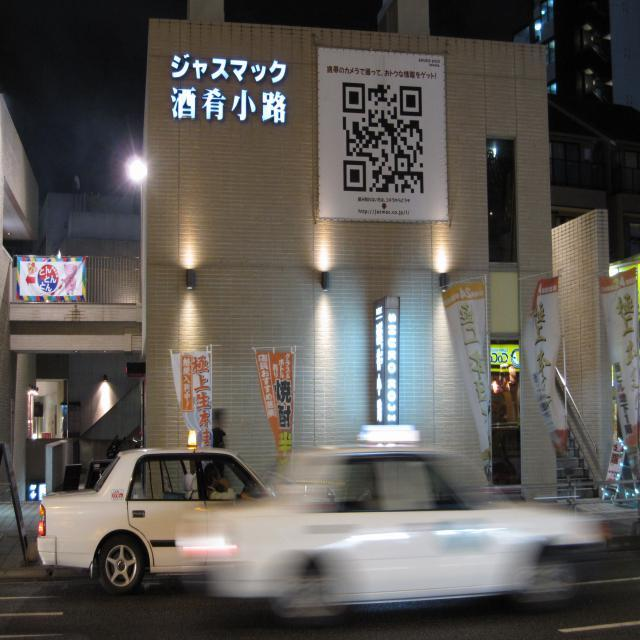qrcode: (344, 84, 425, 195)
